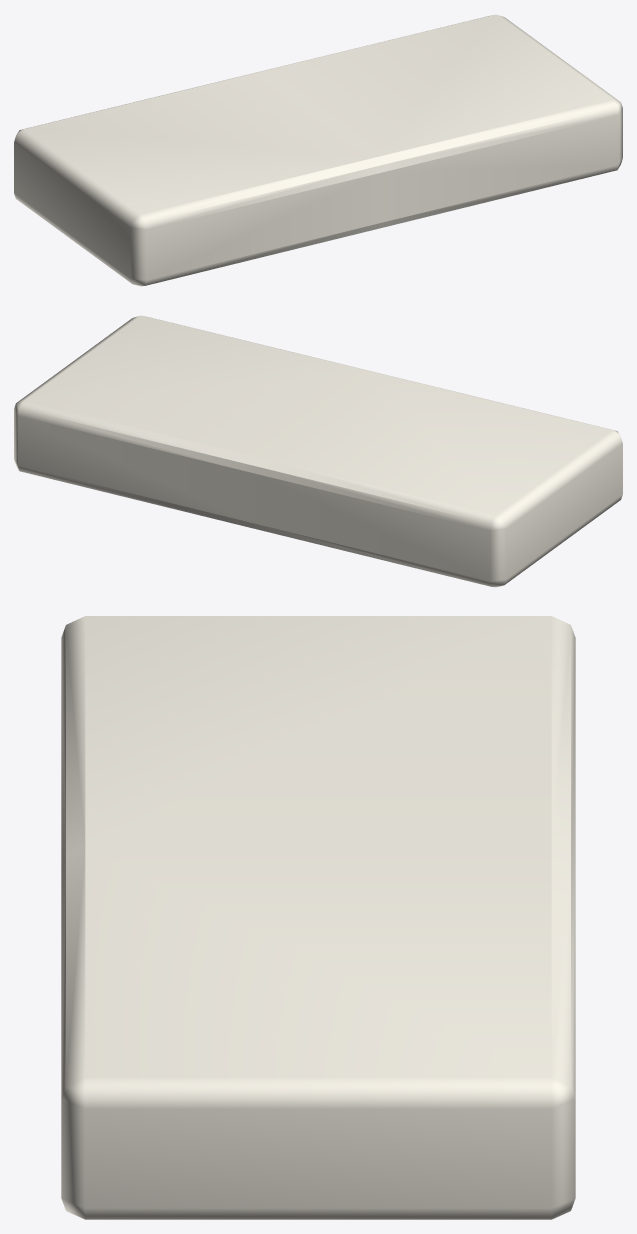
3 views of the same model, one above another, from view 1: azimuth 30°, elevation 25°; view 2: azimuth 150°, elevation 25°; view 3: azimuth 270°, elevation 25° (orthographic). The views are drawn at different scales.
Visible parts, largest first — view 1: domino:domino:domino:domino:polySurface8; view 2: domino:domino:domino:domino:polySurface8; view 3: domino:domino:domino:domino:polySurface8.
Part boxes in pixels (left/top/right/bottom): domino:domino:domino:domino:polySurface8: left=14, top=14, right=622, bottom=286; domino:domino:domino:domino:polySurface8: left=14, top=315, right=622, bottom=587; domino:domino:domino:domino:polySurface8: left=61, top=616, right=575, bottom=1219.
Size of the model in its own units: 3.28 by 0.4579 by 1.48.
1 material, 1 textured.
